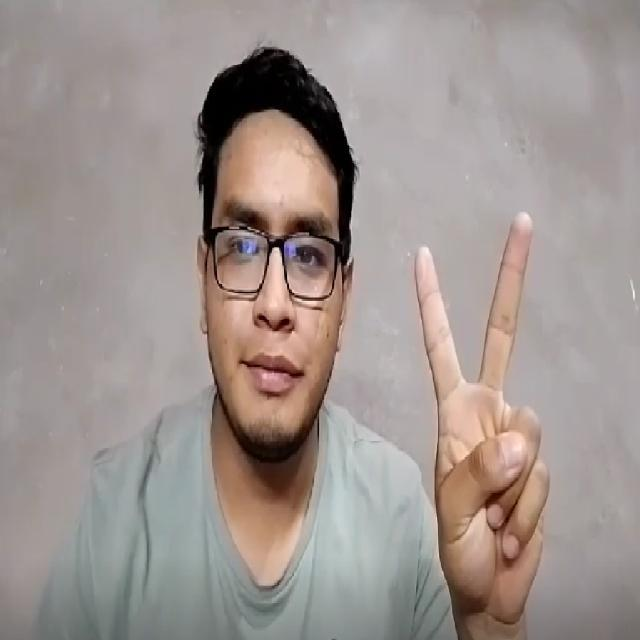V: (400, 196, 564, 634)
